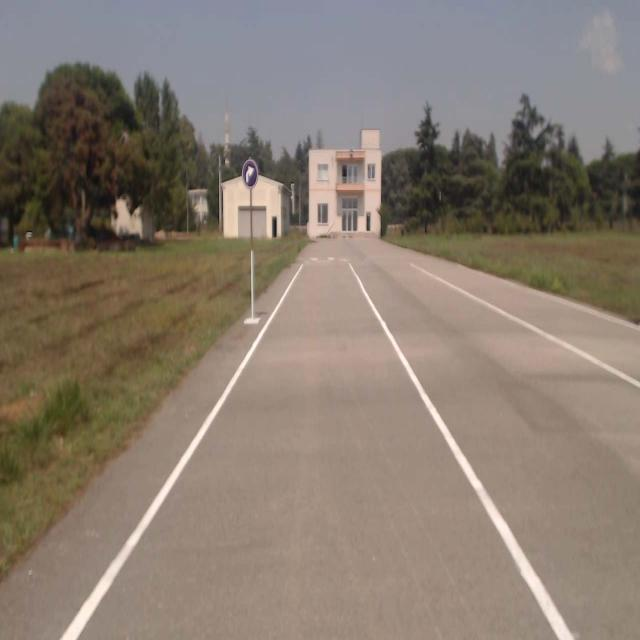sag: (243, 159, 257, 188)
